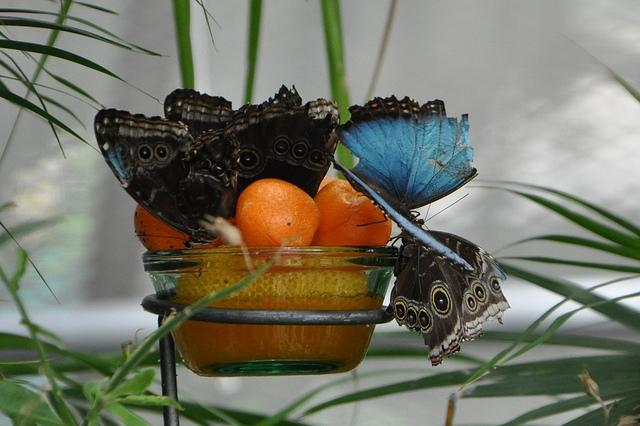orange: (235, 179, 322, 247), (313, 180, 393, 246), (134, 204, 225, 250), (317, 176, 338, 194)
